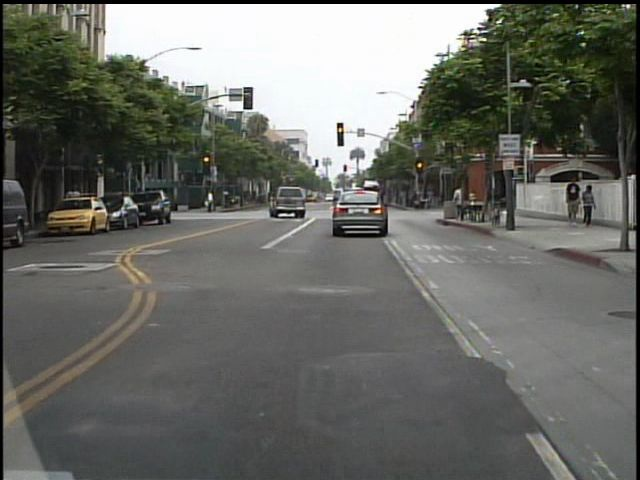person: (562, 175, 582, 228), (575, 182, 596, 230), (448, 183, 469, 224), (206, 188, 219, 215)
